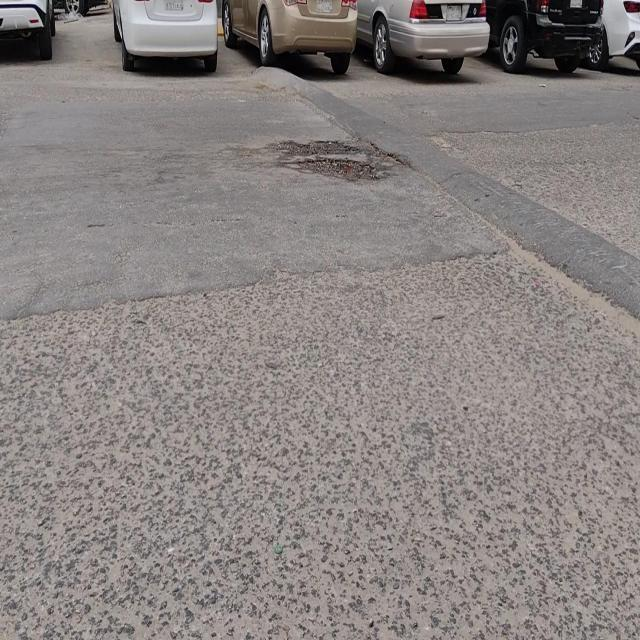Pothole: (285, 160, 373, 181), (274, 139, 360, 157)
Unmarked Bump: (256, 68, 640, 318)
